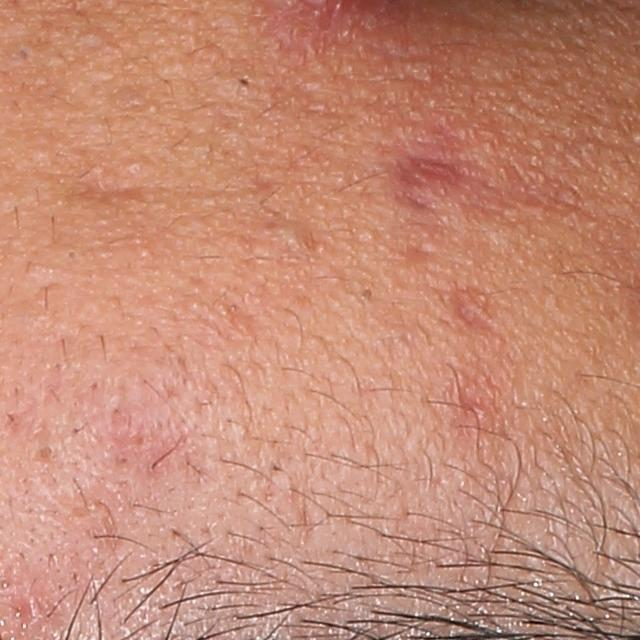atrophic_scar: (375, 118, 600, 231), (445, 364, 513, 450), (439, 283, 496, 341), (65, 175, 165, 207)
comedo: (275, 219, 317, 250), (231, 72, 253, 94), (32, 446, 54, 466), (66, 248, 78, 263)
